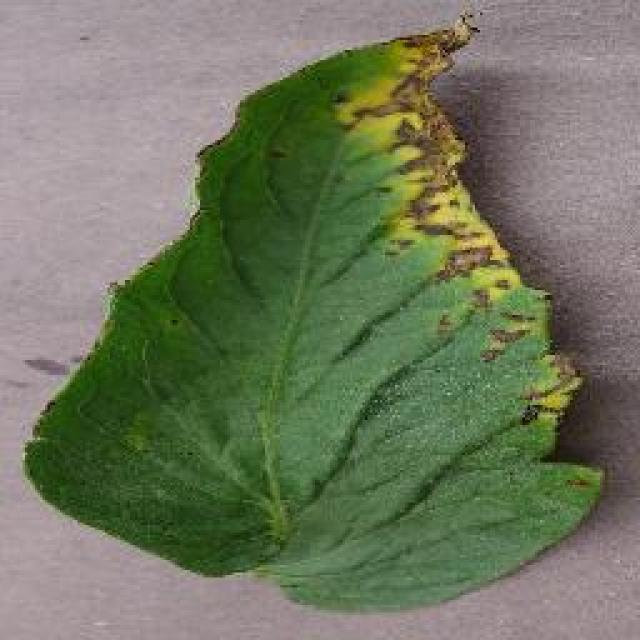Tomato bacterial spot leaf: (18, 1, 614, 624)
